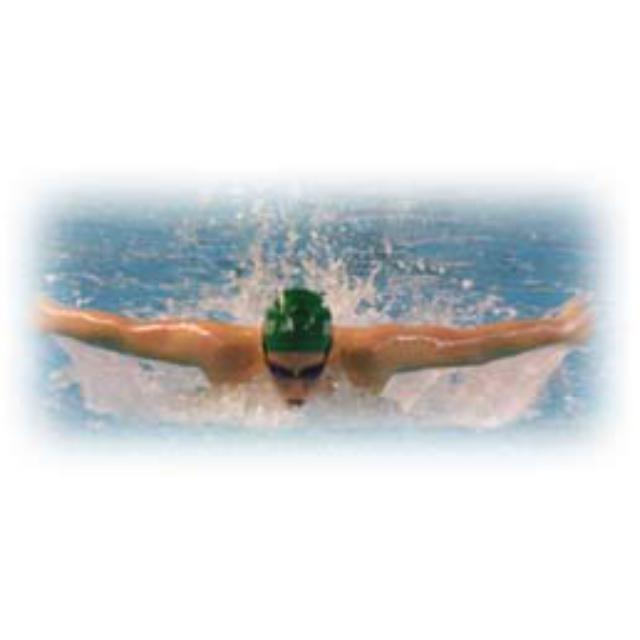human: (32, 268, 595, 409)
